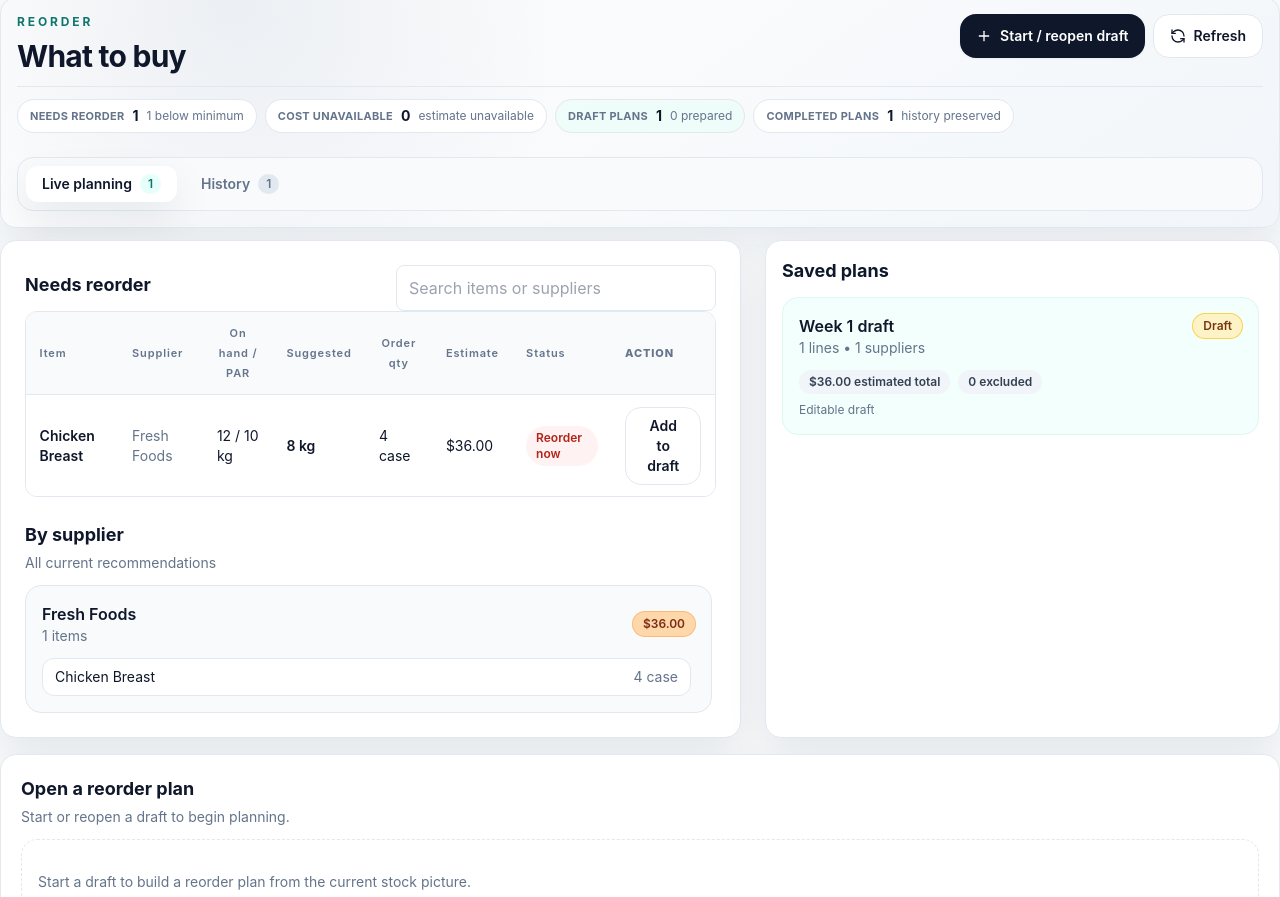
Test: PilotReorderPlanPage › recalculates provisional line estimates while editing without saving
Click the button "Week 1 draft". click: (847, 326)
box: [782,297,1259,435]
(page scrolled)
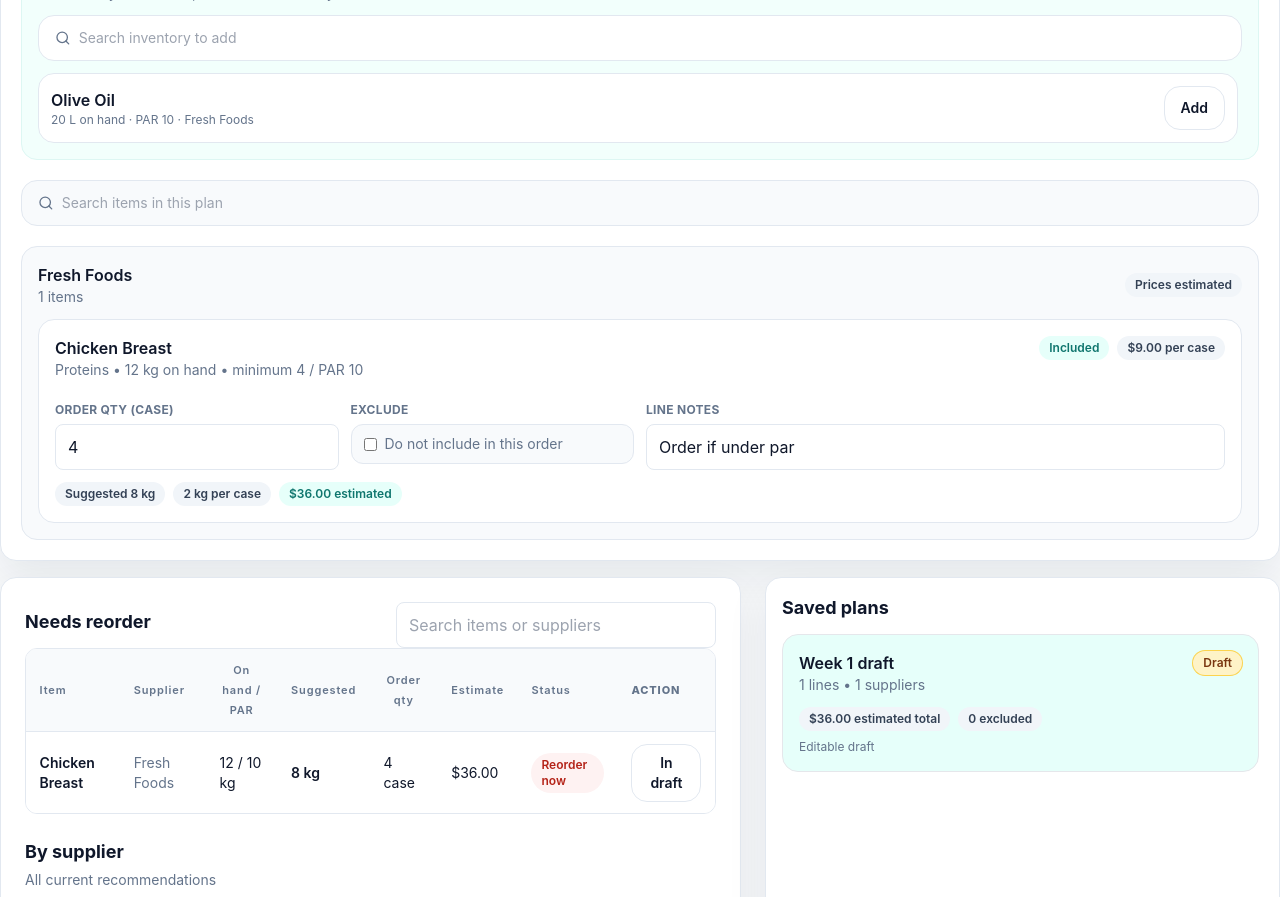
Expected: the text "$36.00 estimated" is shown, [279,482,402,506]
Replace the text in the number field labelled "Order qty (case)" with "6". click: (197, 447)
box: [55,424,338,470]
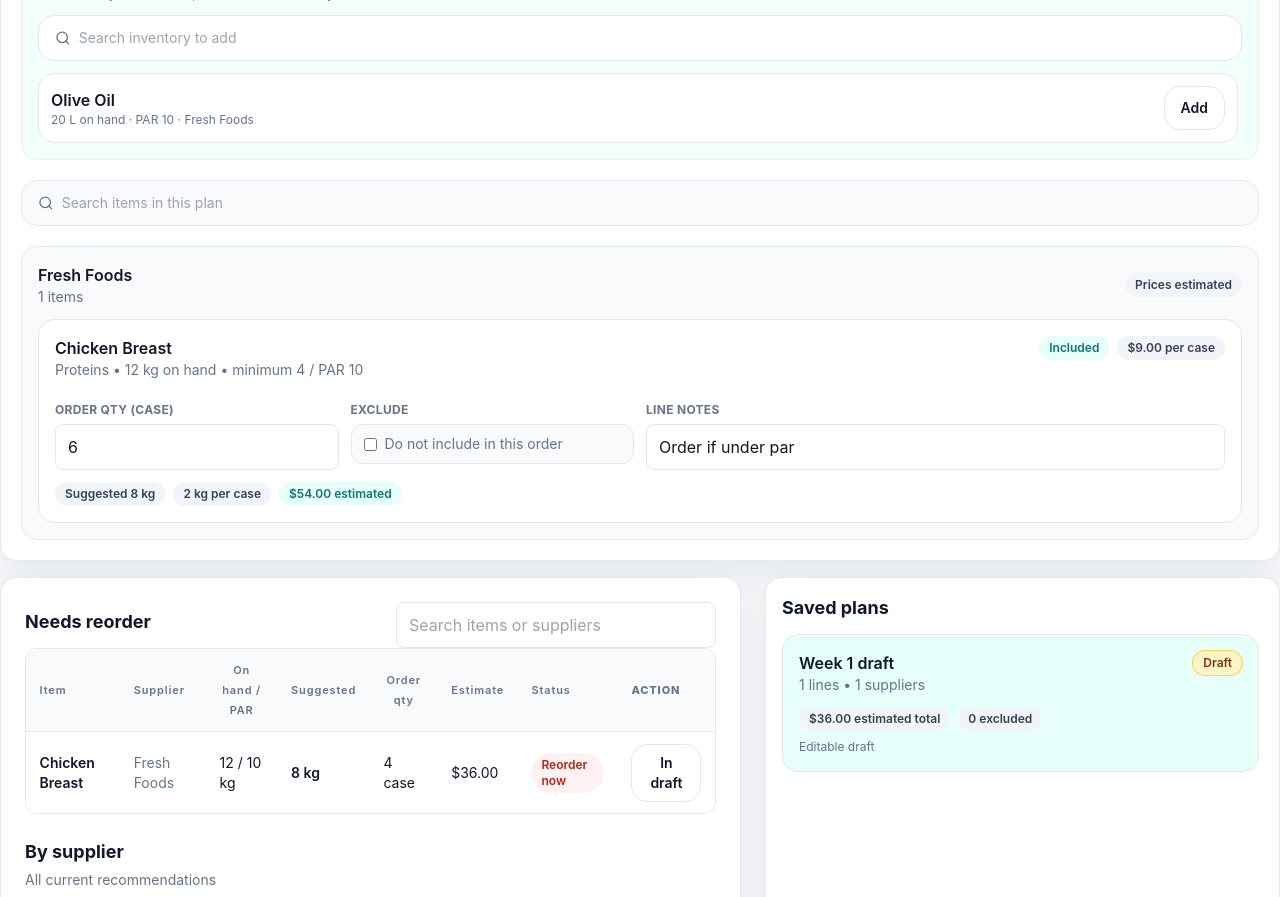
Expected: the text "$54.00 estimated" is shown, [279,482,402,506]
